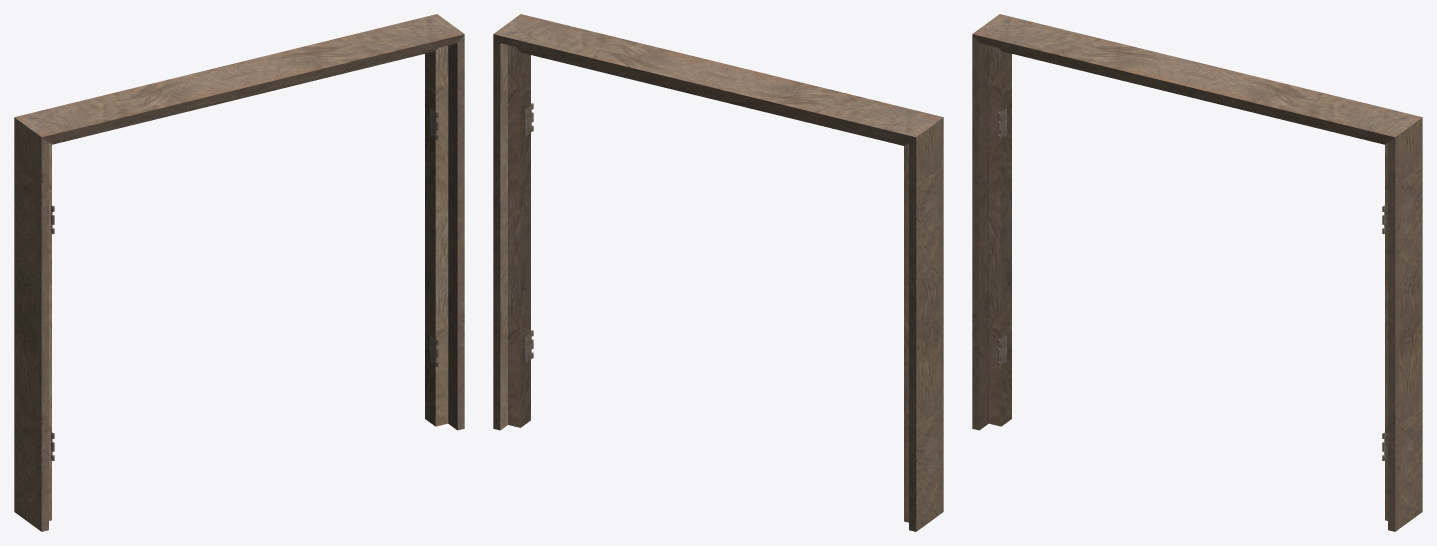
The model's file is WoodDoorTrimC.fbx.
The picture shows the model from 3 angles, left to right: view 1: azimuth 30°, elevation 25°; view 2: azimuth 150°, elevation 25°; view 3: azimuth 330°, elevation 25°; orthographic projection.
Parts seen in each view (by area): view 1: WoodDoorTrimC; view 2: WoodDoorTrimC; view 3: WoodDoorTrimC.
Part boxes in pixels (left/top/right/bottom): WoodDoorTrimC: left=14, top=14, right=464, bottom=531; WoodDoorTrimC: left=493, top=14, right=943, bottom=531; WoodDoorTrimC: left=972, top=14, right=1422, bottom=531.
Size of the model in its own units: 278 by 248 by 31.37.
